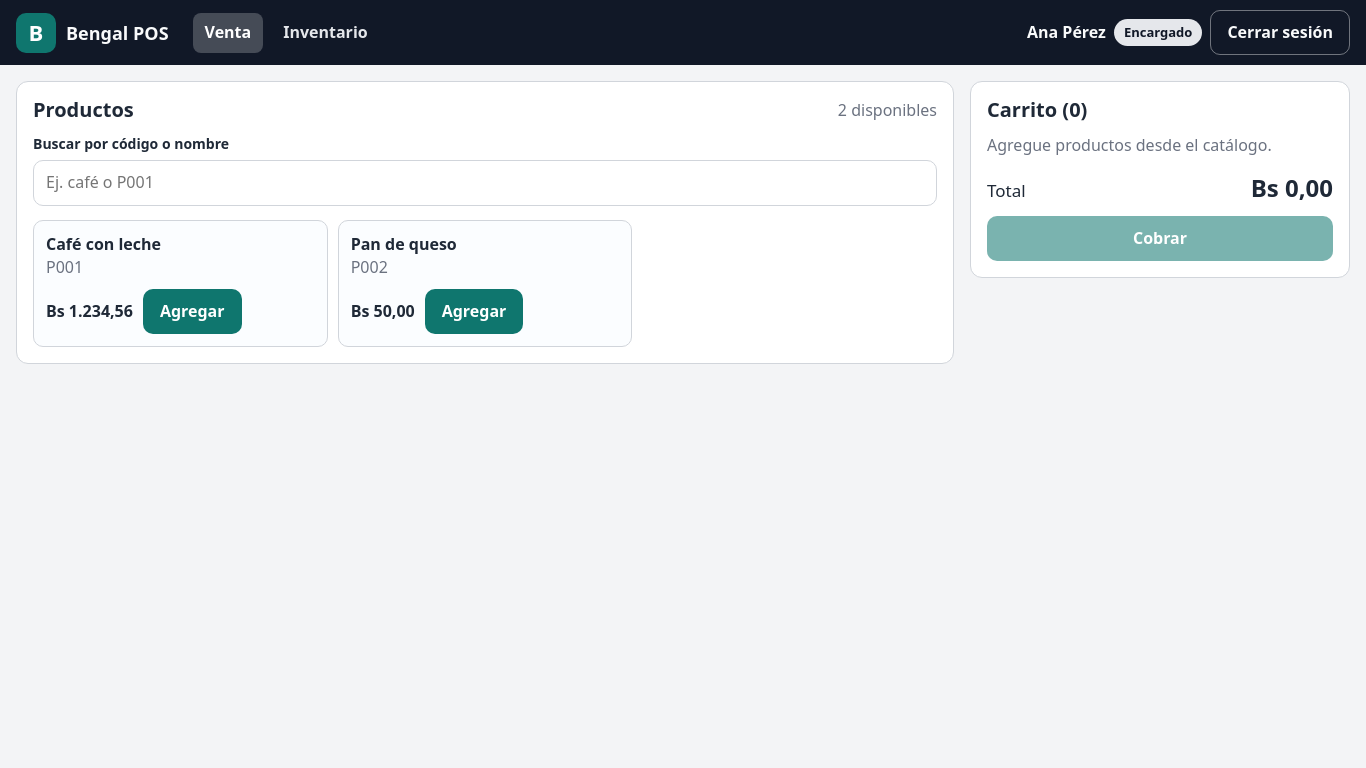
Test: pantalla de venta › permite completar con un solo método o agregar método secundario
This screenshot has width=1366, height=768.
Click the button with aria-label "Agregar Café con leche": (192, 312) [143,289,242,334]
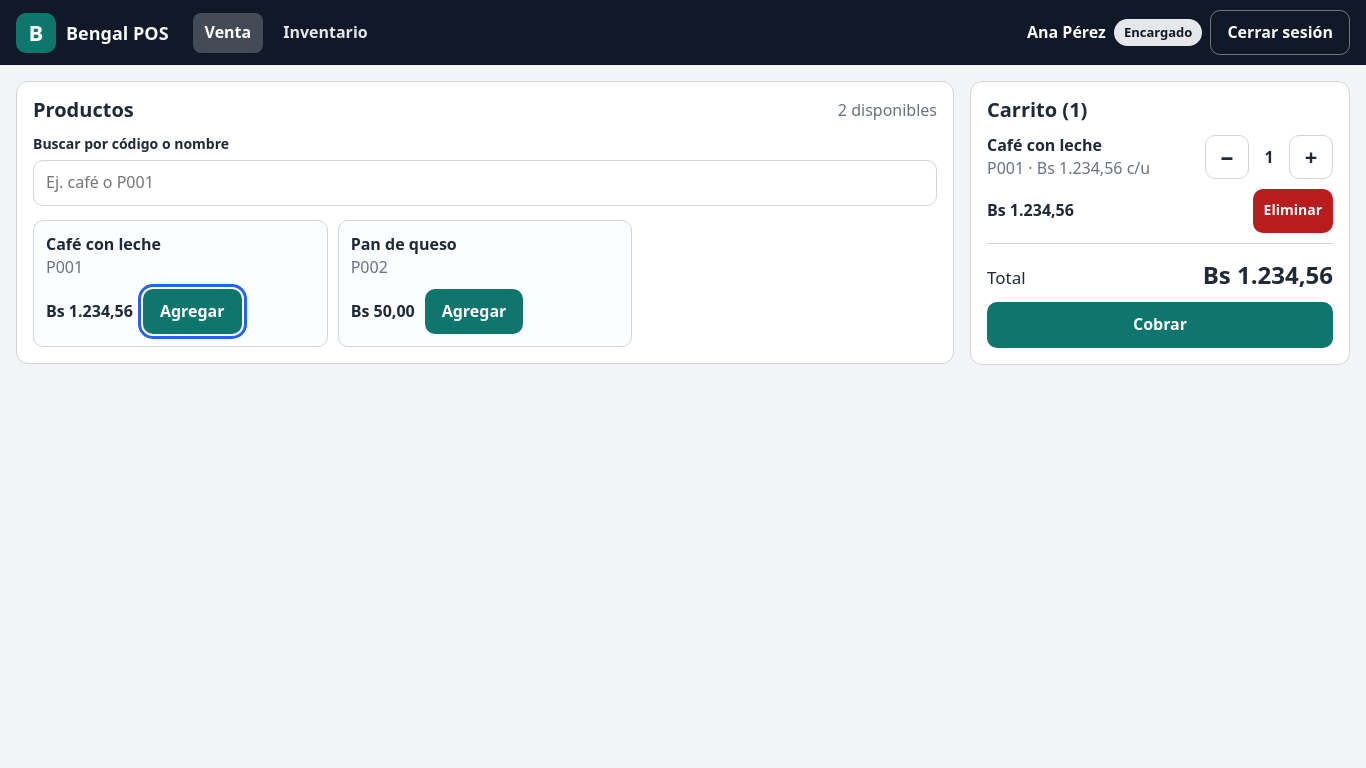
Click the button "Cobrar": (1160, 325) [987,302,1333,348]
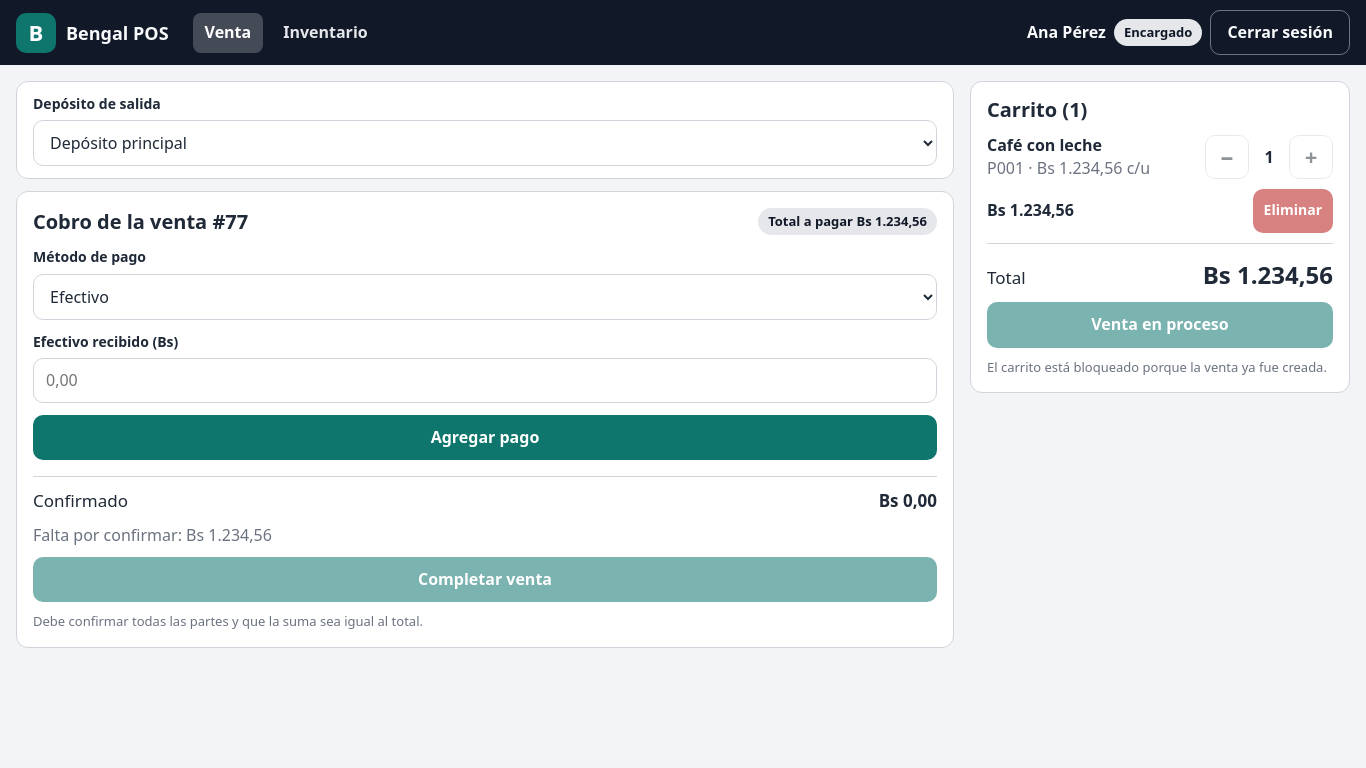
Expected: the heading "Cobro de la venta #77" is shown, [33,210,248,234]
Select "Tarjeta" in the dropdown labelled "Método de pago": (485, 297) [33,274,937,320]
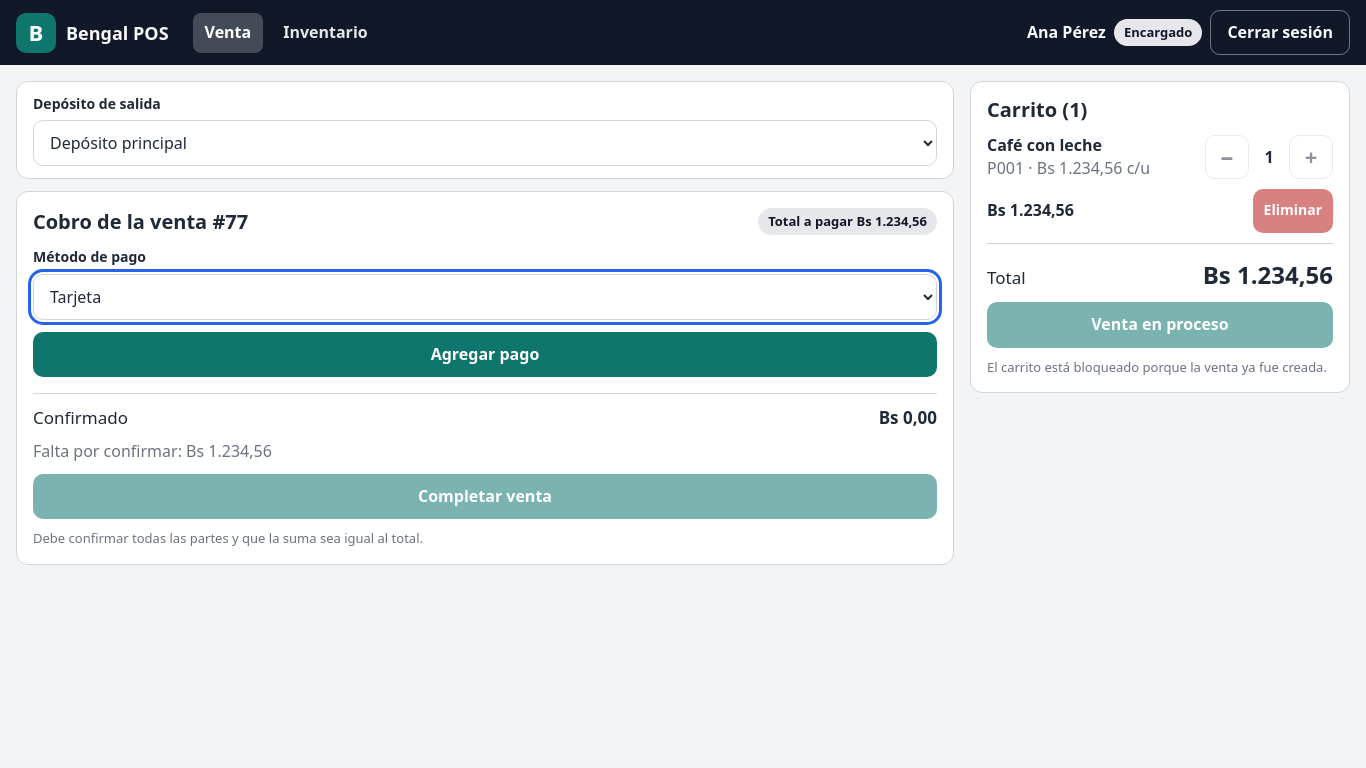
Click the button "Agregar pago": (485, 354) [33,332,937,377]
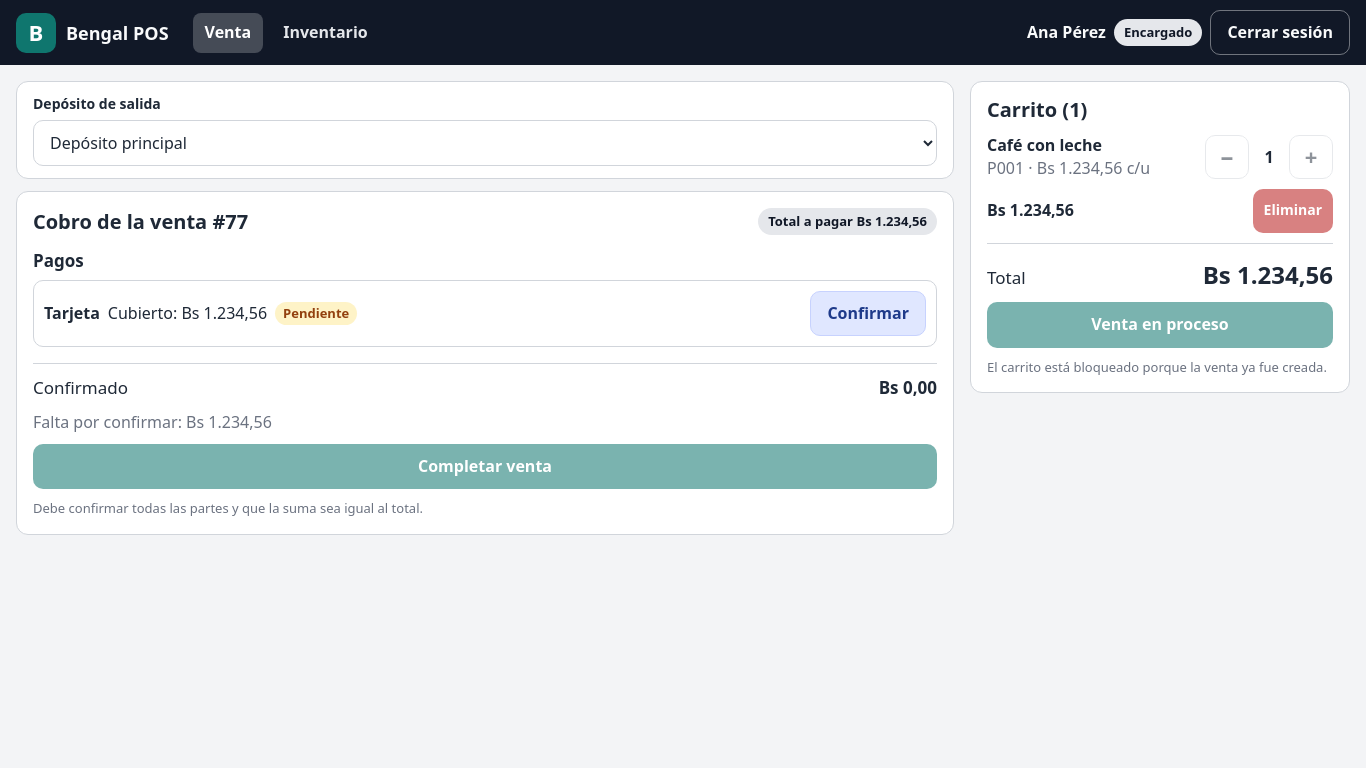
Click the button "Confirmar": (868, 313) [810,291,926,336]
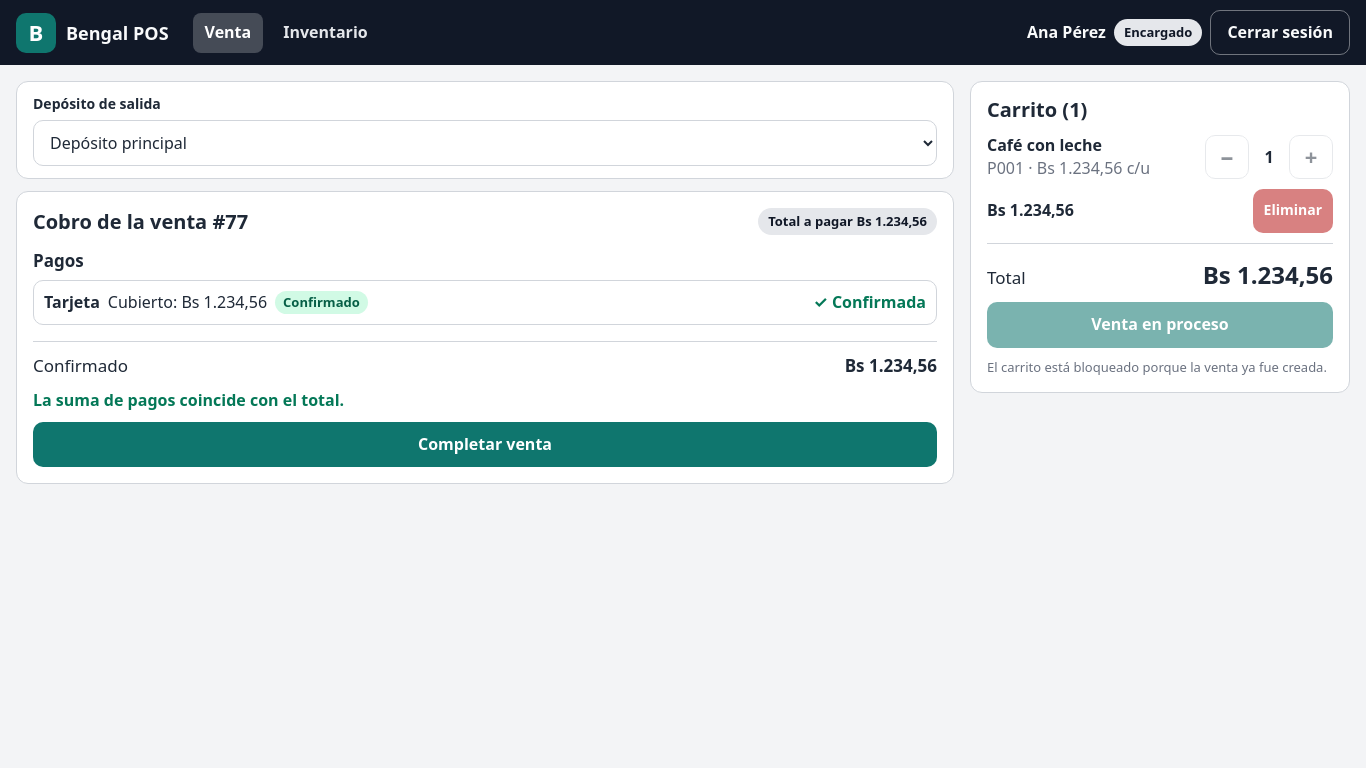
Expected: the text "La suma de pagos coincide con el total." is shown, [33,388,344,410]
Expected: the button "Completar venta" is enabled, [33,422,937,467]
